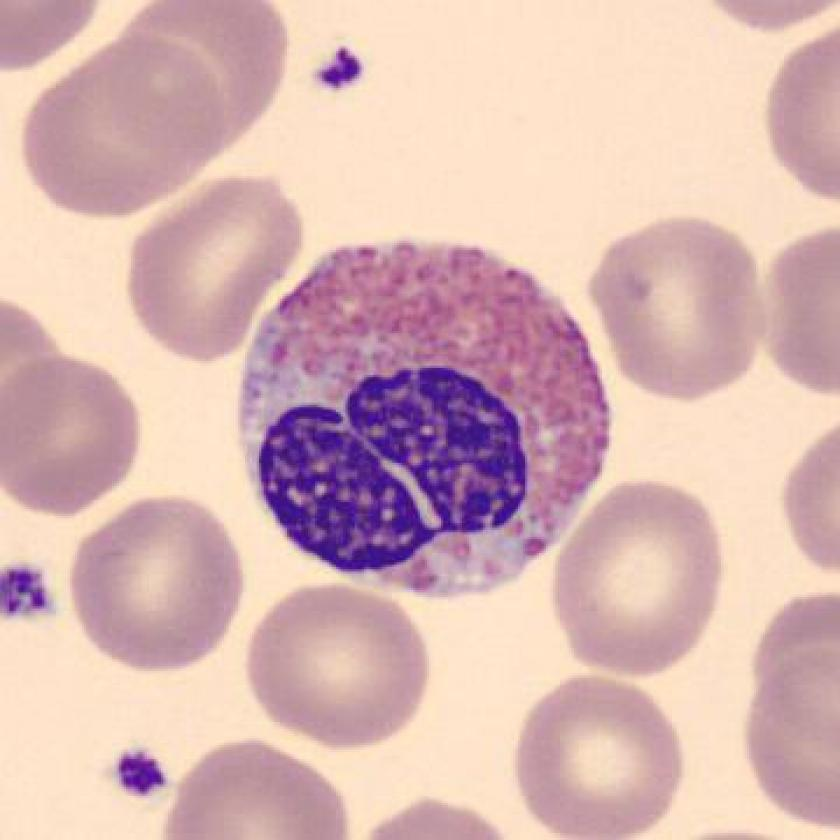eosinophil: (223, 226, 631, 621)
